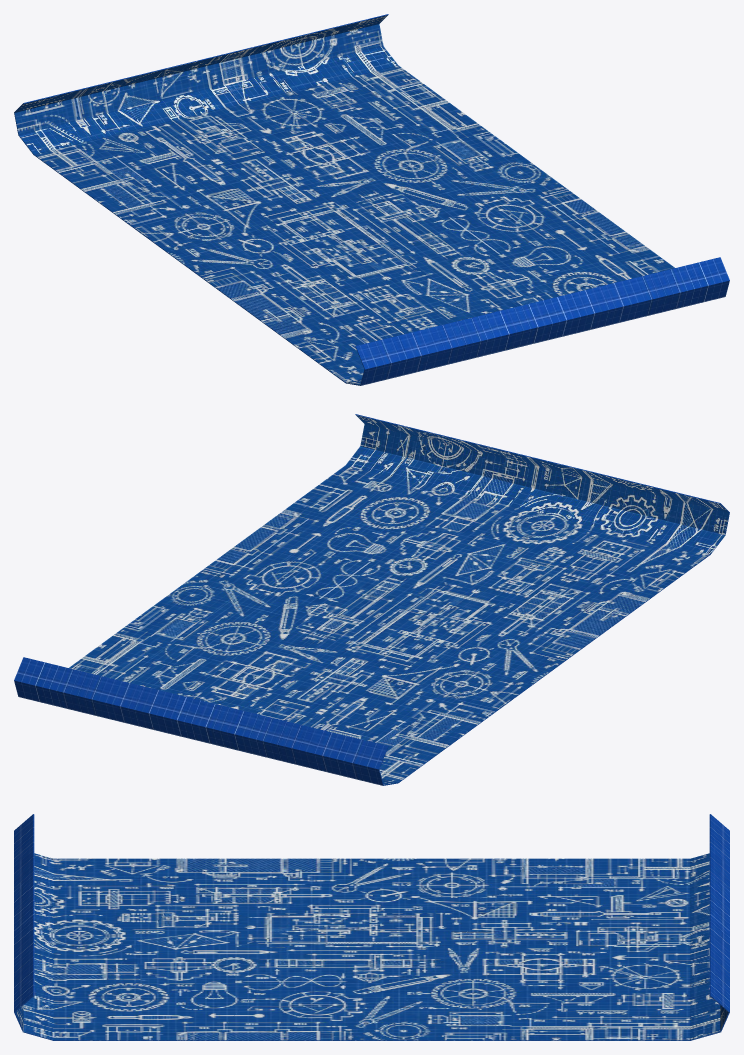
The model's file is drawing.obj.
3 views of the same model, one above another, from view 1: azimuth 30°, elevation 25°; view 2: azimuth 150°, elevation 25°; view 3: azimuth 270°, elevation 25° (orthographic).
Visible parts, largest first — view 1: drawing; view 2: drawing; view 3: drawing.
Boxes of the visible parts, x1,y1,x2,y2 form: drawing: (14, 14, 729, 385); drawing: (14, 414, 729, 785); drawing: (14, 814, 729, 1040).
Bounding box in the file's own units: 0.6 × 0.07 × 1.
Materials: 2 (2 with a texture image).
